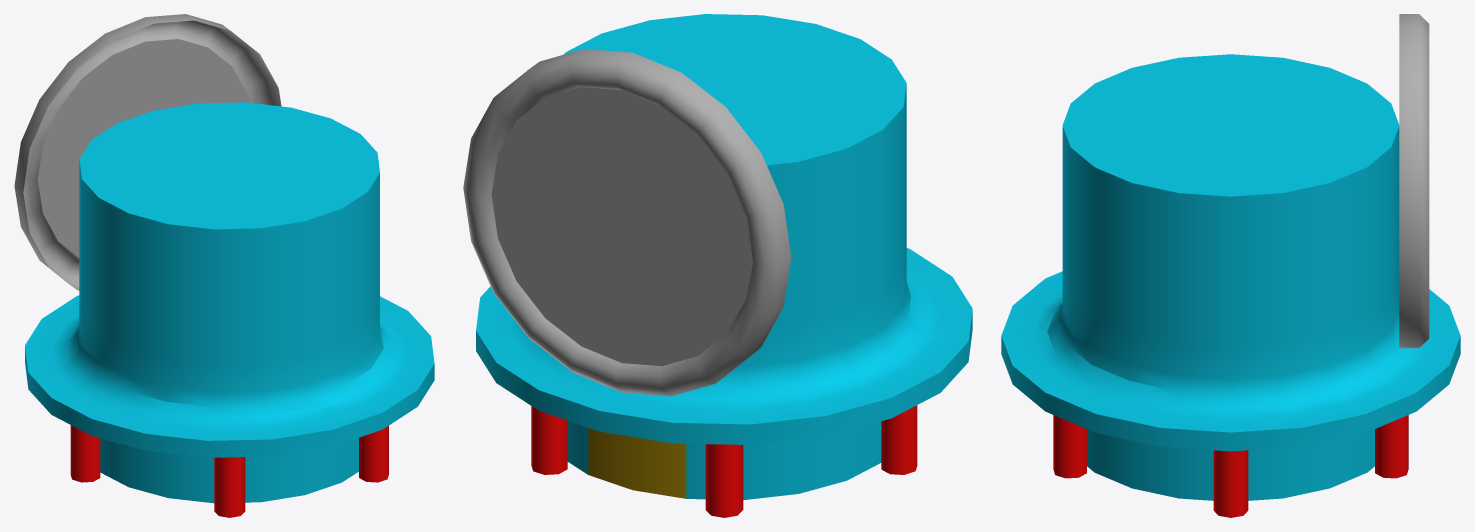
File: pizzeria.fbx
3 renders of one model, left to right at view 1: azimuth 30°, elevation 25°; view 2: azimuth 150°, elevation 25°; view 3: azimuth 270°, elevation 25°, orthographic. The views are drawn at different scales.
Parts seen in each view (by area): view 1: pCylinder63; view 2: pCylinder63; view 3: pCylinder63.
Boxes of the visible parts, x1,y1,x2,y2 form: pCylinder63: (14, 14, 434, 517); pCylinder63: (463, 14, 972, 517); pCylinder63: (1001, 14, 1460, 517).
Size of the model in its own units: 13.59 by 13.18 by 13.59.
